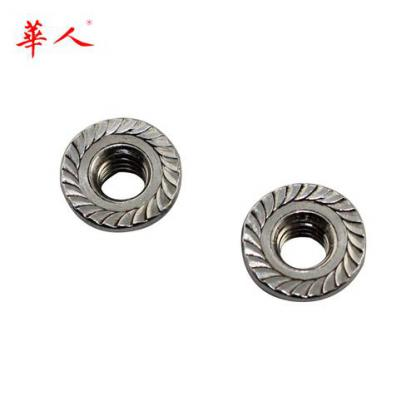FOD: (235, 181, 368, 304), (56, 114, 184, 240)
